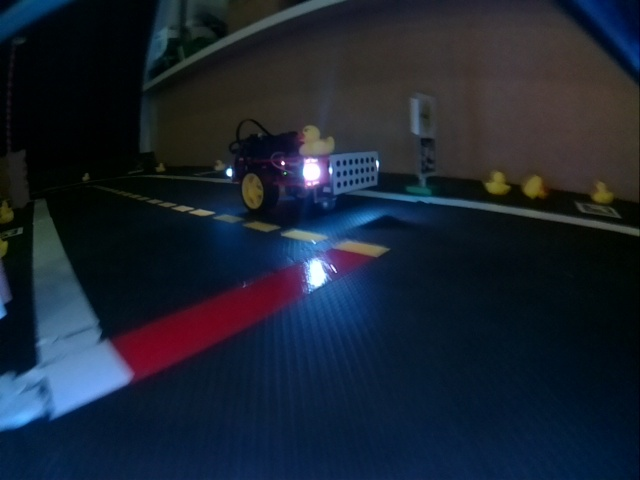Duckie: (299, 127, 332, 153), (523, 176, 548, 201), (485, 171, 508, 195), (591, 181, 609, 204), (155, 163, 162, 171), (82, 176, 90, 181)
Duckiebot: (231, 135, 377, 212)
Intersection sign: (419, 101, 434, 135)
QR code: (419, 141, 436, 175)
